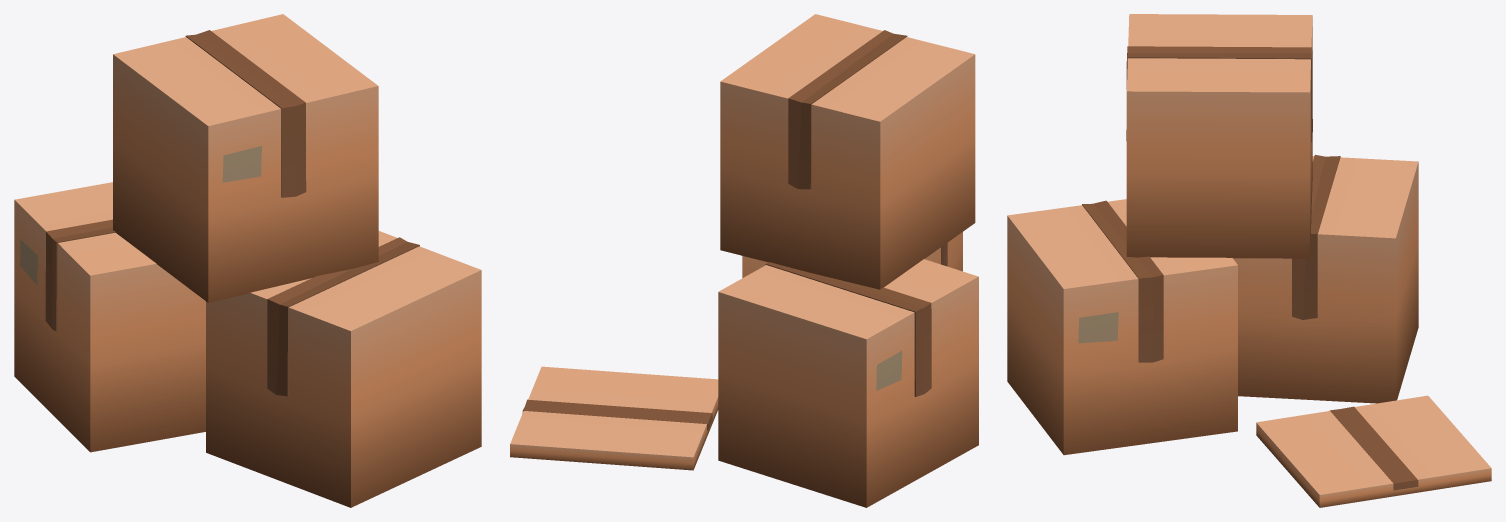
File: Box_Pile.glb
3 views of the same model, side by side, from view 1: azimuth 30°, elevation 25°; view 2: azimuth 150°, elevation 25°; view 3: azimuth 270°, elevation 25° (orthographic). The views are drawn at different scales.
Visible parts, largest first — view 1: box_pile; view 2: box_pile; view 3: box_pile.
Boxes of the visible parts, x1,y1,x2,y2 form: box_pile: (14, 14, 481, 507); box_pile: (510, 14, 978, 507); box_pile: (1007, 14, 1491, 507).
Size of the model in its own units: 1.84 by 1.5 by 1.98.
1 material, 1 textured.
